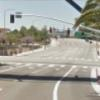crosswalks: (2, 62, 94, 70)
